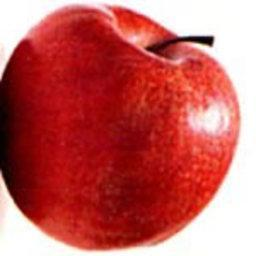apple: (0, 2, 241, 251)
